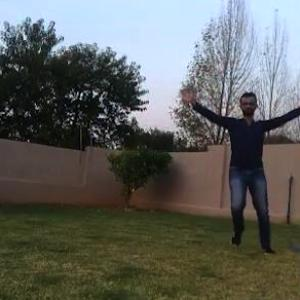takeoff: (170, 92, 297, 246)
